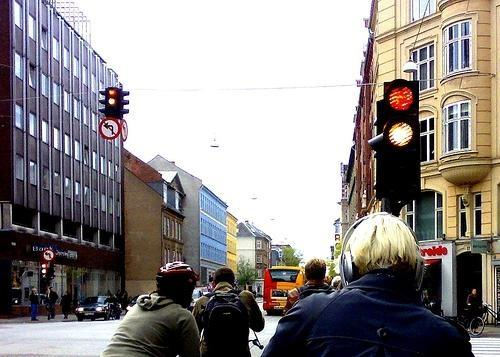bicycle: (481, 303, 500, 324), (470, 318, 484, 336)
bus: (263, 267, 306, 311)
car: (74, 294, 120, 321), (189, 288, 204, 308), (196, 287, 211, 295)
